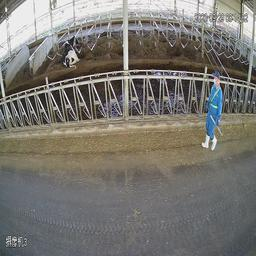cow: (62, 35, 81, 69)
